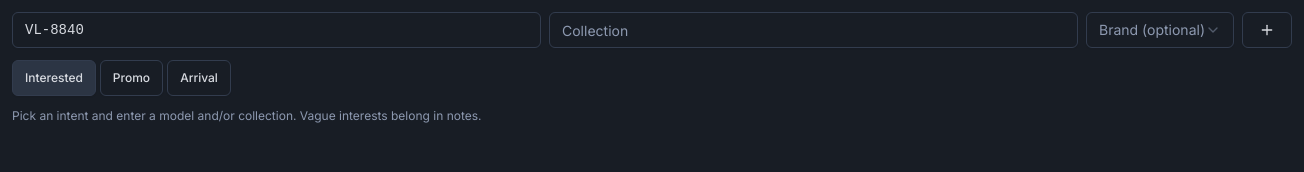
Test: ProductsOfInterestInput accept/reject semantics › clears the draft when the parent accepts (returns nothing)
Click the button named "Add interest" at {"x": 1267, "y": 30}, box x1=1242 y1=12 x2=1292 y2=48
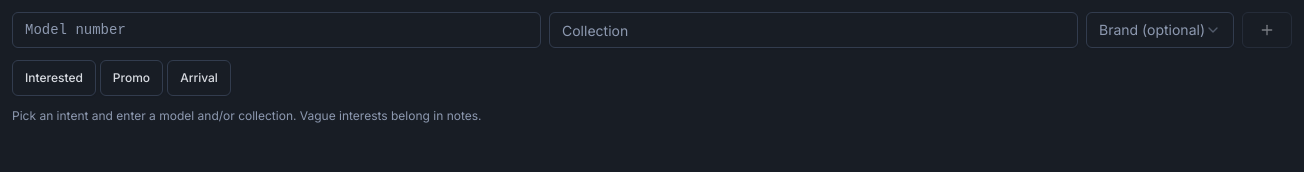
Check: the field labelled "Model number" is empty, box x1=12 y1=12 x2=541 y2=48
Check: the radio button labelled "Interested" is not checked, box x1=12 y1=60 x2=96 y2=96
